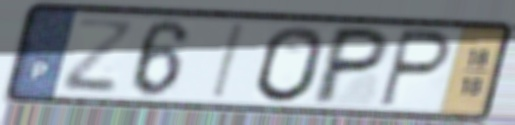6: (129, 17, 194, 101)
I: (207, 21, 250, 103)
O: (253, 23, 327, 105)
P: (307, 24, 395, 107), (375, 25, 455, 111)
Z: (58, 16, 137, 96)
